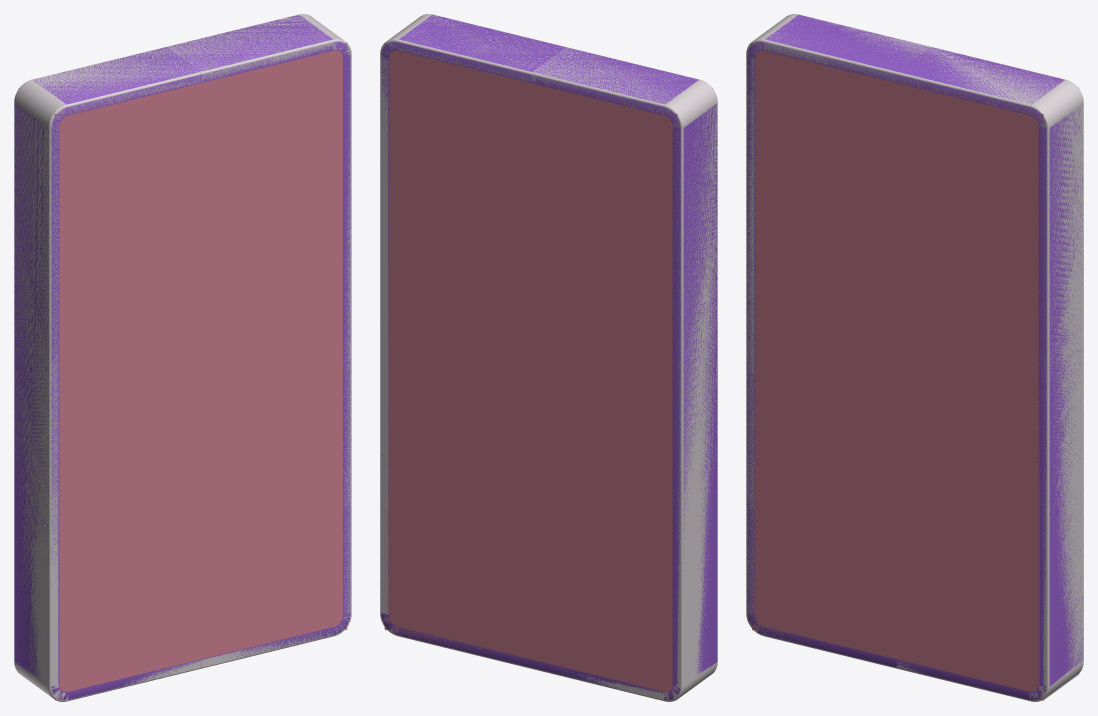
The model's file is [decor] Material dummy rectangular.fbx.
3 views of the same model, side by side, from view 1: azimuth 30°, elevation 25°; view 2: azimuth 150°, elevation 25°; view 3: azimuth 330°, elevation 25° (orthographic).
Visible parts, largest first — view 1: Material dummy rectangular_GIPROXY, Material dummy rectangular_LOD0, Material dummy rectangular_PHYS; view 2: Material dummy rectangular_GIPROXY, Material dummy rectangular_PHYS, Material dummy rectangular_LOD0; view 3: Material dummy rectangular_GIPROXY, Material dummy rectangular_PHYS, Material dummy rectangular_LOD0.
Part boxes in pixels (x1,y1,x2,y2): Material dummy rectangular_GIPROXY: (18, 42, 347, 700); Material dummy rectangular_LOD0: (14, 14, 351, 701); Material dummy rectangular_PHYS: (14, 14, 350, 700); Material dummy rectangular_GIPROXY: (384, 42, 713, 700); Material dummy rectangular_PHYS: (381, 14, 717, 700); Material dummy rectangular_LOD0: (380, 14, 717, 701); Material dummy rectangular_GIPROXY: (750, 42, 1079, 700); Material dummy rectangular_PHYS: (747, 14, 1083, 700); Material dummy rectangular_LOD0: (746, 14, 1083, 701).
Size of what is drawn, in the model's own units: 200 by 376 by 41.24.
